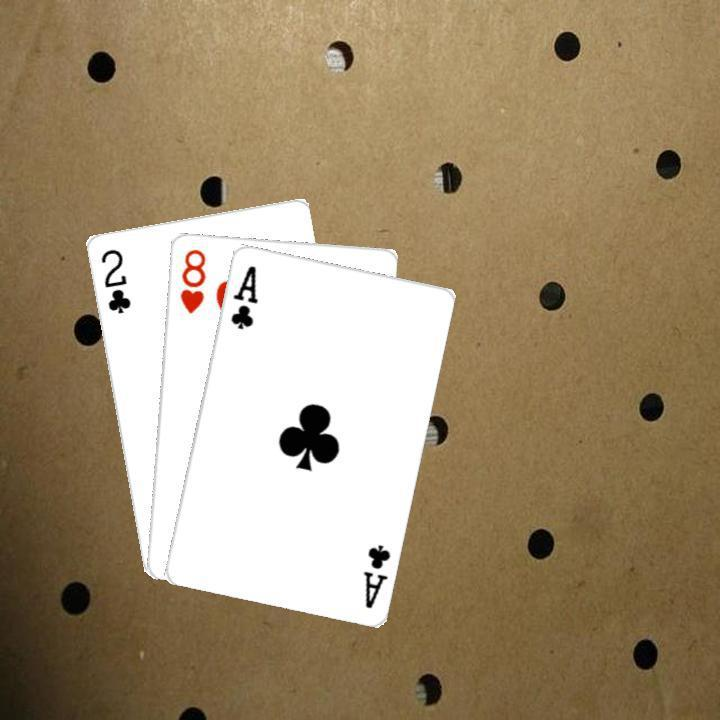2: (96, 244, 132, 315)
8: (175, 244, 207, 315)
A: (358, 539, 392, 610), (225, 261, 259, 331)
